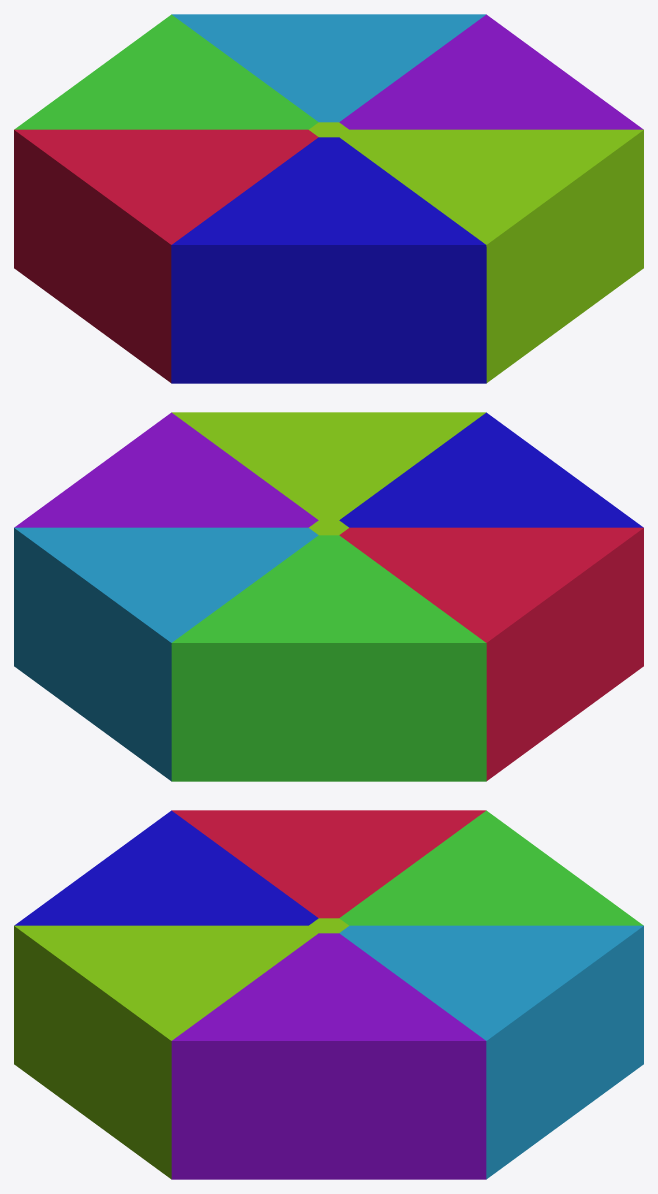
The model's file is charkha.fbx.
The picture shows the model from 3 angles, top to bottom: view 1: azimuth 30°, elevation 25°; view 2: azimuth 150°, elevation 25°; view 3: azimuth 270°, elevation 25°; orthographic projection.
Parts seen in each view (by area): view 1: Circle; view 2: Circle; view 3: Circle.
Boxes of the visible parts, x1,y1,x2,y2 form: Circle: (14, 14, 643, 383); Circle: (14, 412, 643, 781); Circle: (14, 810, 643, 1179).
Bounding box in the file's own units: 873 × 244 × 1008.
